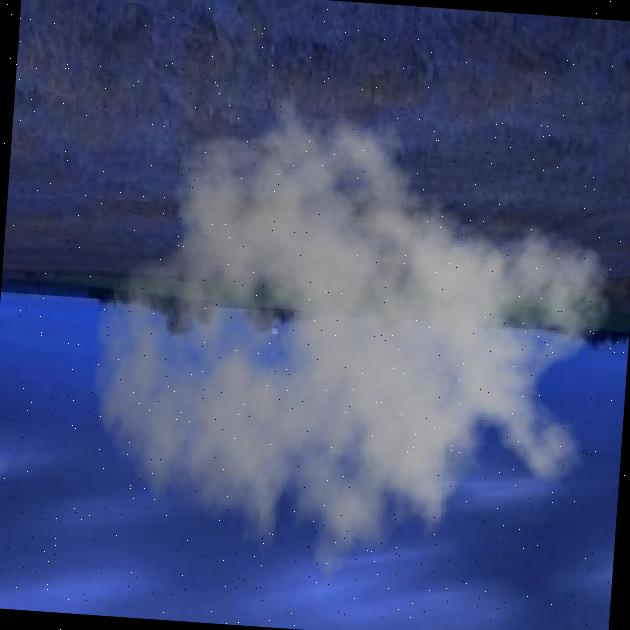smoke: (76, 70, 628, 625)
